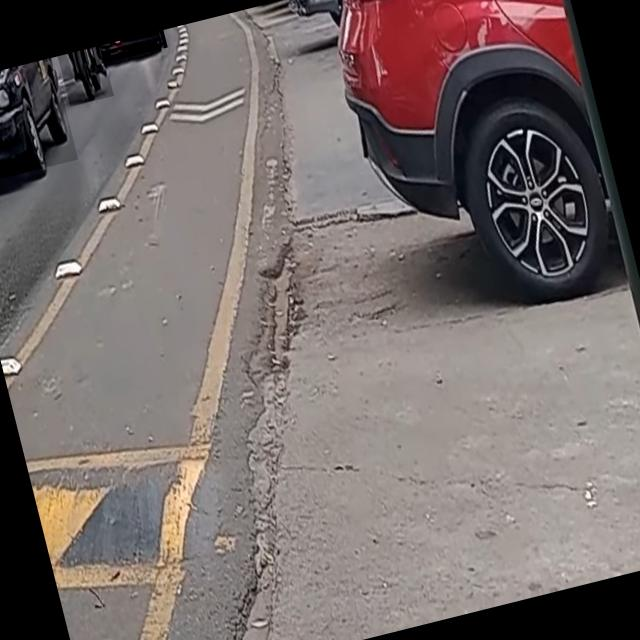car: (0, 57, 78, 189), (92, 30, 168, 64)
motorcycle: (58, 45, 114, 106)
